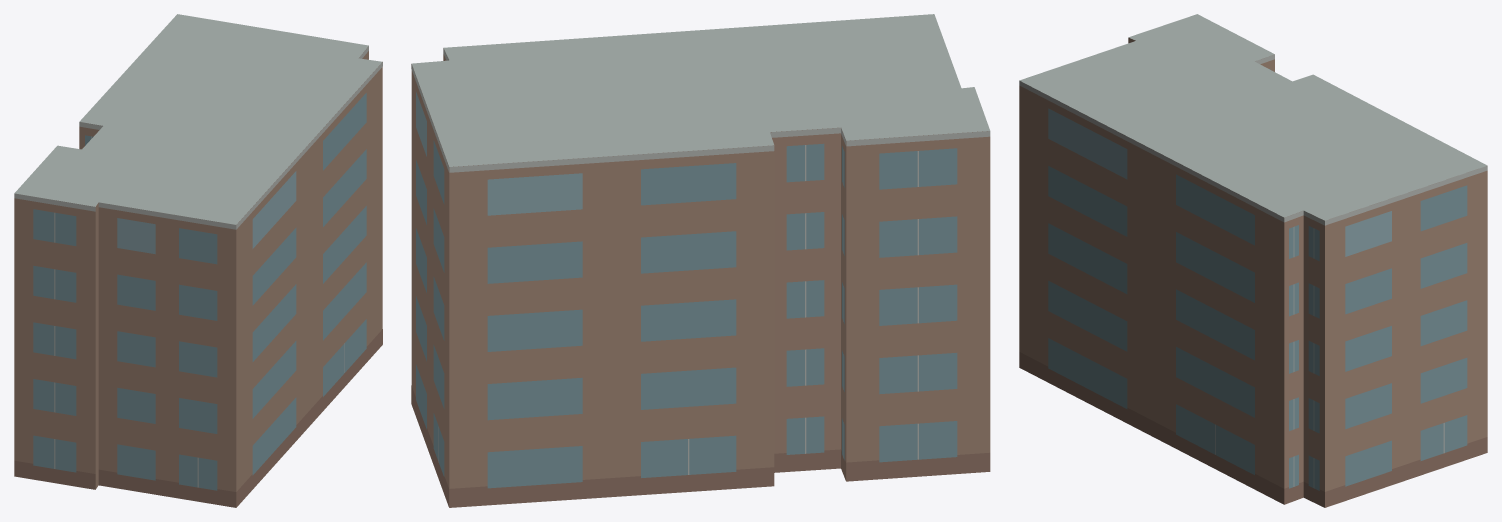
File: survey-upis-32944598.glb
3 renders of one model, left to right at view 1: azimuth 30°, elevation 25°; view 2: azimuth 150°, elevation 25°; view 3: azimuth 270°, elevation 25°, orthographic. The views are drawn at different scales.
Visible parts, largest first — view 1: survey-upis-32944598.tmp; view 2: survey-upis-32944598.tmp; view 3: survey-upis-32944598.tmp.
Boxes of the visible parts, x1=… form: survey-upis-32944598.tmp: x1=14, y1=14, x2=382, y2=507; survey-upis-32944598.tmp: x1=411, y1=14, x2=990, y2=507; survey-upis-32944598.tmp: x1=1019, y1=14, x2=1487, y2=507.
Bounding box in the file's own units: 22.17 × 14.35 × 21.23.
